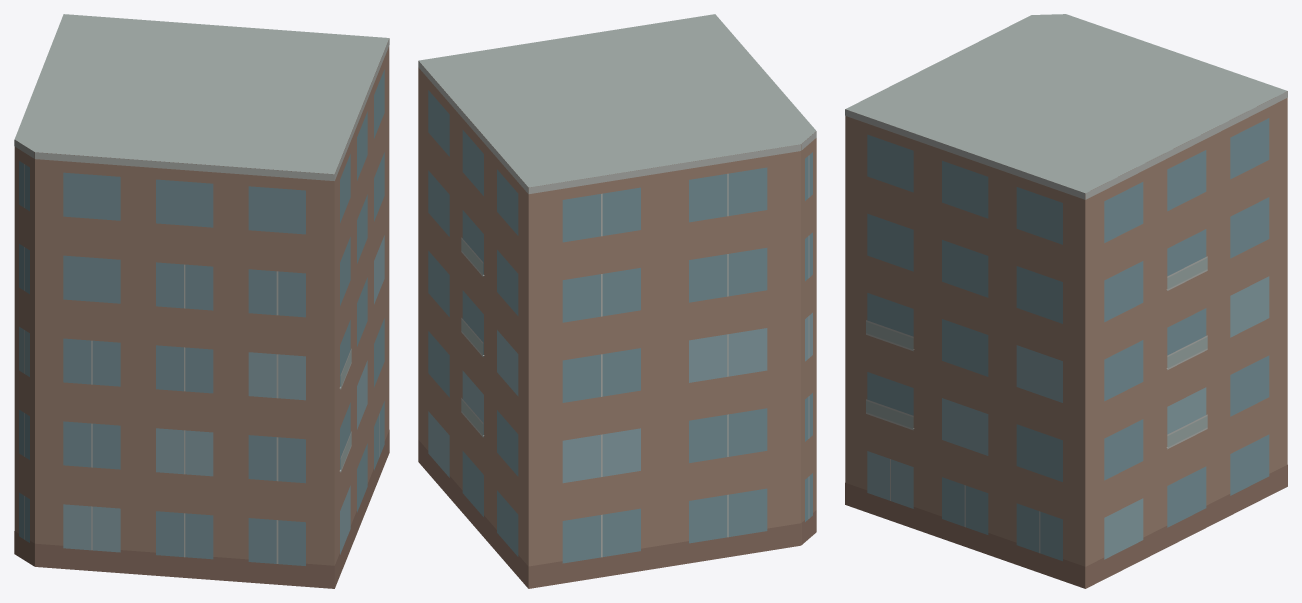
Rendered from survey-upis-32675782.glb.
The picture shows the model from 3 angles, left to right: view 1: azimuth 30°, elevation 25°; view 2: azimuth 150°, elevation 25°; view 3: azimuth 270°, elevation 25°; orthographic projection. The views are drawn at different scales.
Visible parts, largest first — view 1: survey-upis-32675782.tmp; view 2: survey-upis-32675782.tmp; view 3: survey-upis-32675782.tmp.
Part boxes in pixels (box(x1,y1,x2,y2)): survey-upis-32675782.tmp: box(14, 14, 389, 588); survey-upis-32675782.tmp: box(418, 14, 816, 588); survey-upis-32675782.tmp: box(845, 14, 1287, 588).
Bounding box in the file's own units: 14.2 × 14.6 × 14.81.
